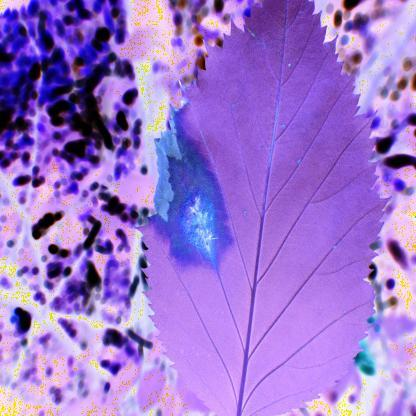Apple rust leaf: (155, 10, 389, 416)
